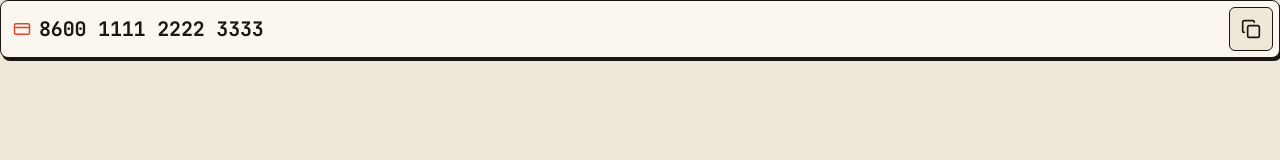
Test: PaymentCard compact mode › falls back to the document copy command when Clipboard API is unavailable
Click the button named "Copy card". click: (1251, 29)
box: 1229,7 -> 1273,51
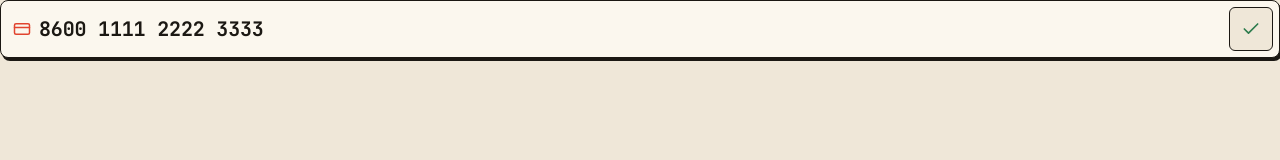
Check: the 2nd icon has class "text-success", box 1241,19 -> 1261,39
